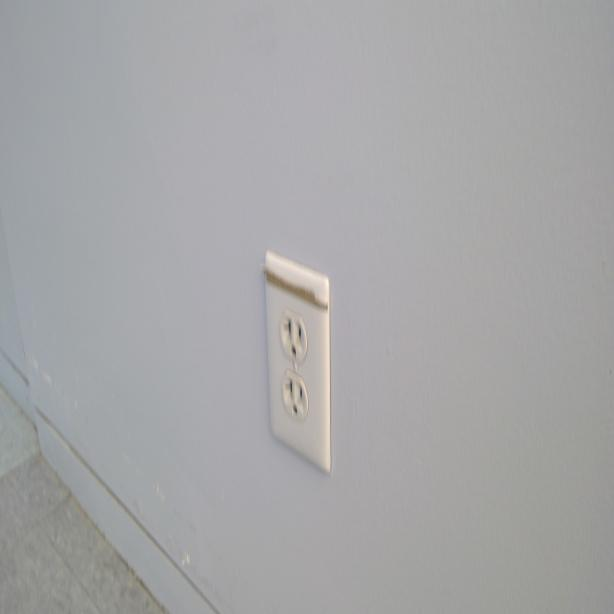typeb: (279, 304, 307, 360), (280, 374, 309, 422)
